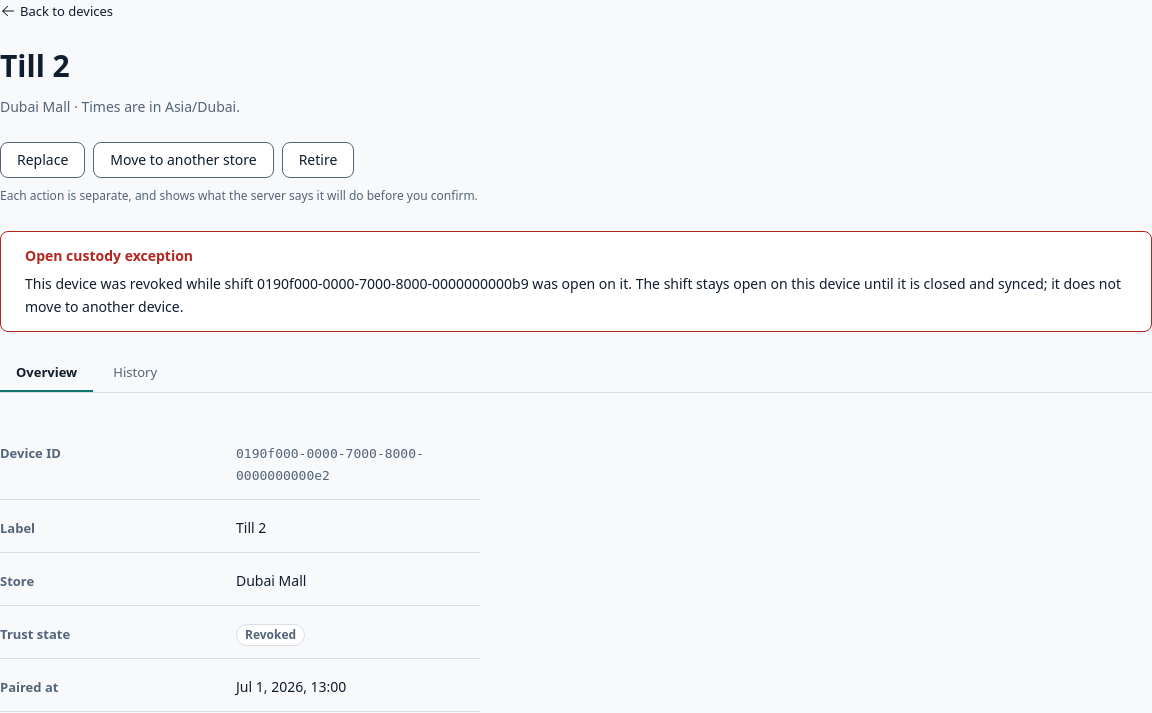
Test: Replace and Move (RT-372 part B) › a revoked device with a custody exception can be replaced: allowed, and the exception stays on the old device
expect the heading "Till 2" is shown: met, box x1=0 y1=45 x2=70 y2=86
Click the button "Replace" at (43, 160), box x1=0 y1=142 x2=85 y2=178
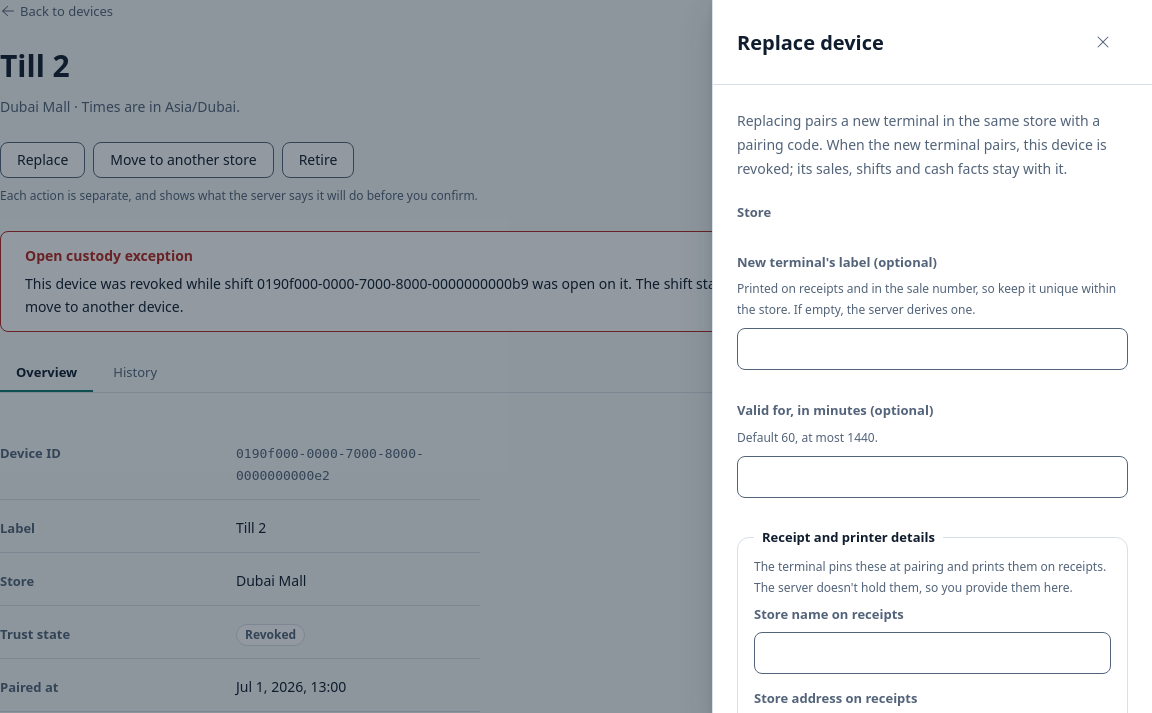
Type "Dubai Mall" into the field labelled "Store name on receipts" at (932, 653), box x1=754 y1=632 x2=1111 y2=674
(page scrolled)
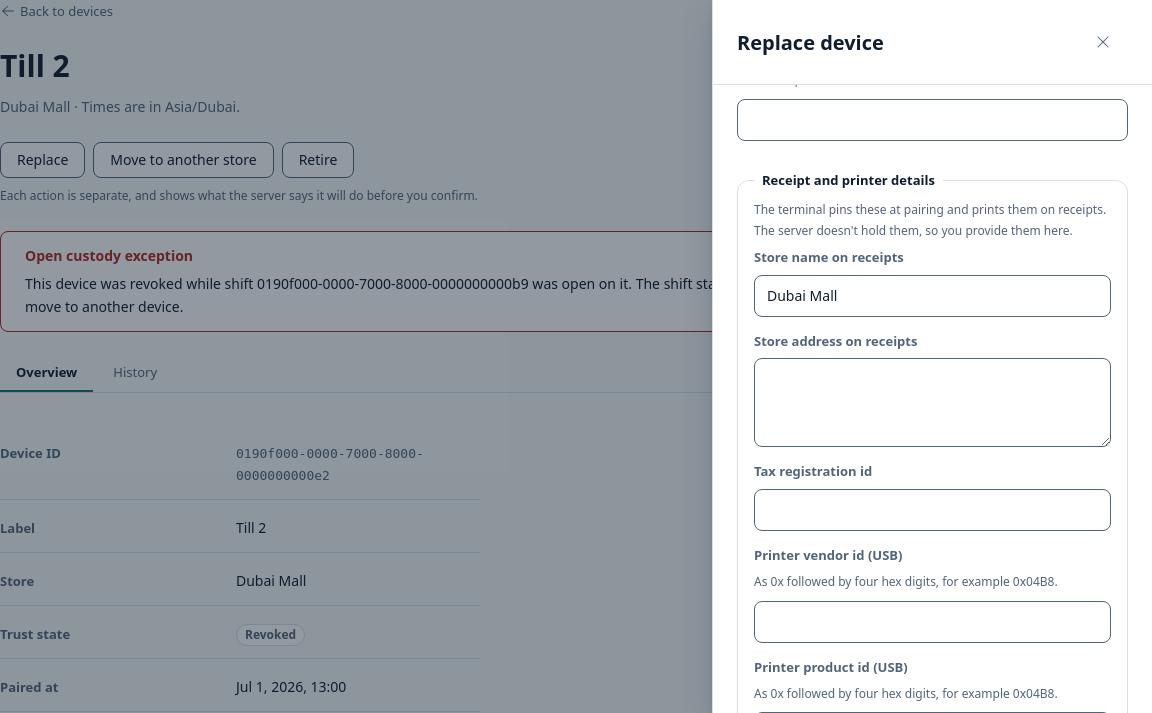
Type "Level 1, Downtown" into the text box labelled "Store address on receipts" at (932, 403), box x1=754 y1=358 x2=1111 y2=448
Type "TRN-100200300" into the field labelled "Tax registration id" at (932, 510), box x1=754 y1=489 x2=1111 y2=531
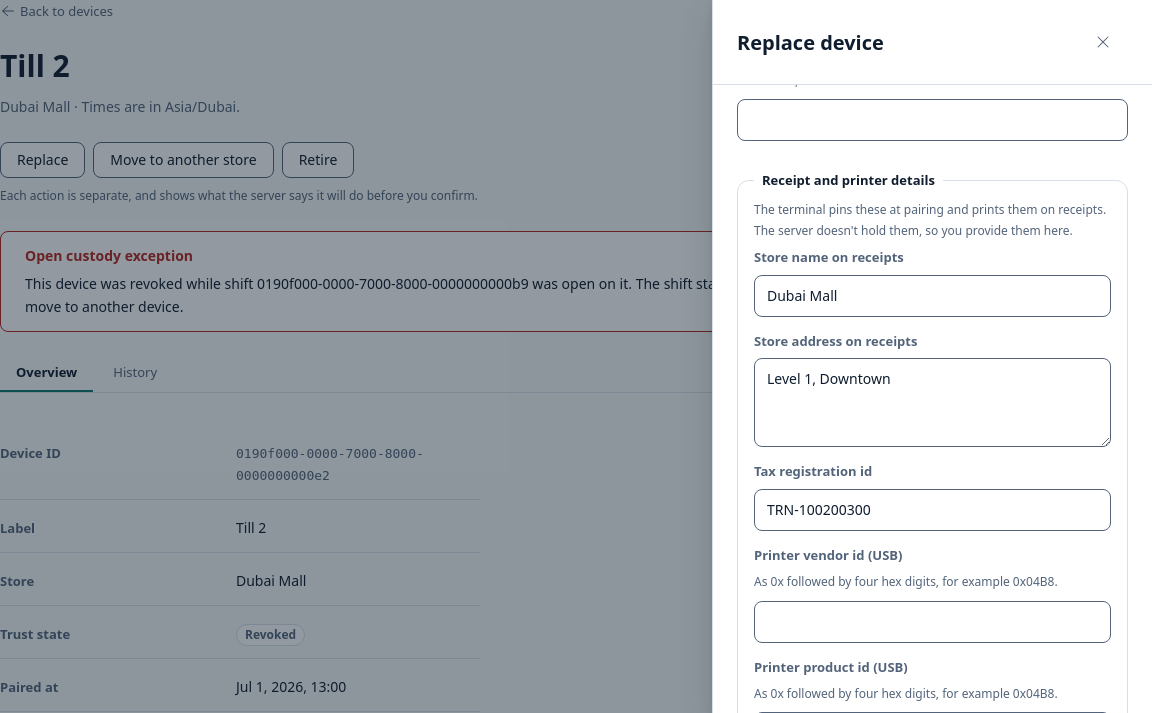
Type "0x04B8" into the field labelled "Printer vendor id (USB)" at (932, 622), box x1=754 y1=601 x2=1111 y2=642
(page scrolled)
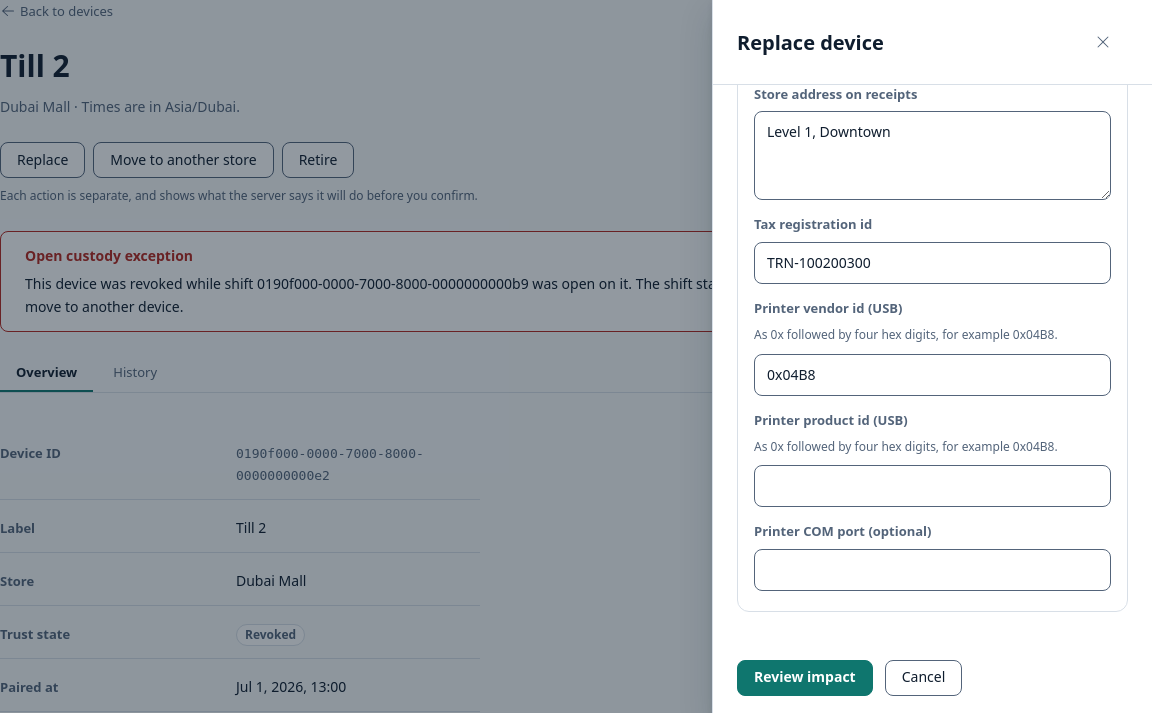
Type "0x0E15" into the field labelled "Printer product id (USB)" at (932, 486), box x1=754 y1=466 x2=1111 y2=507
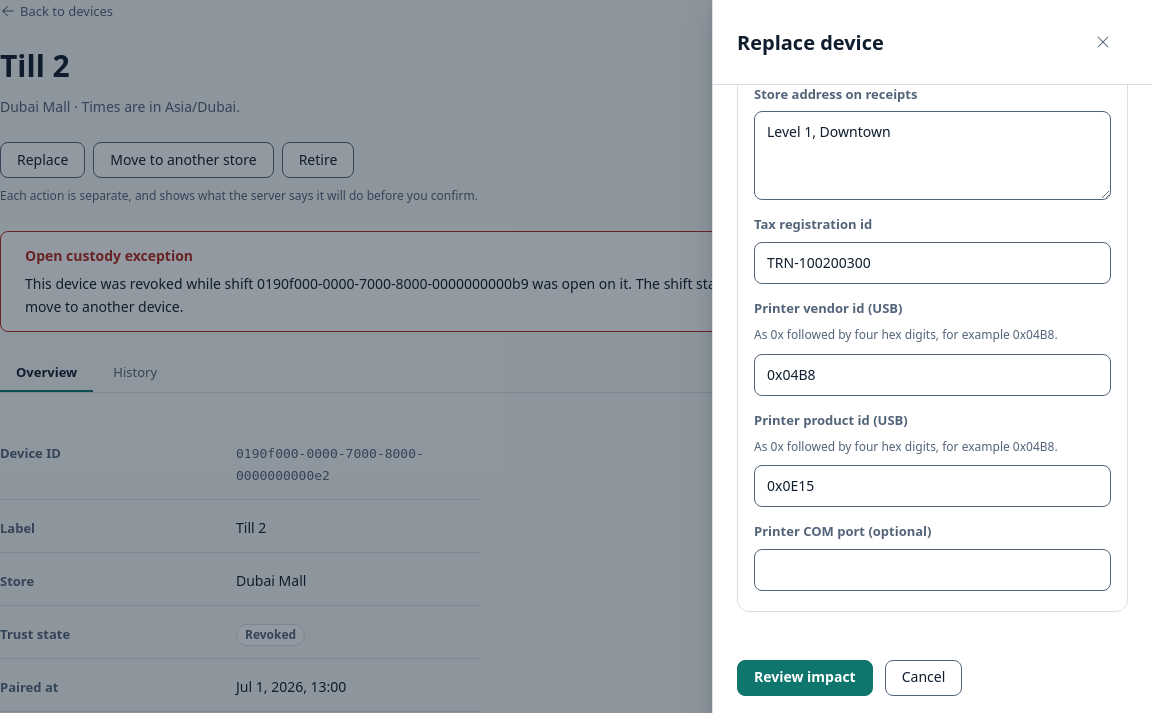
Click the button "Review impact" at (805, 678), box x1=737 y1=660 x2=873 y2=696
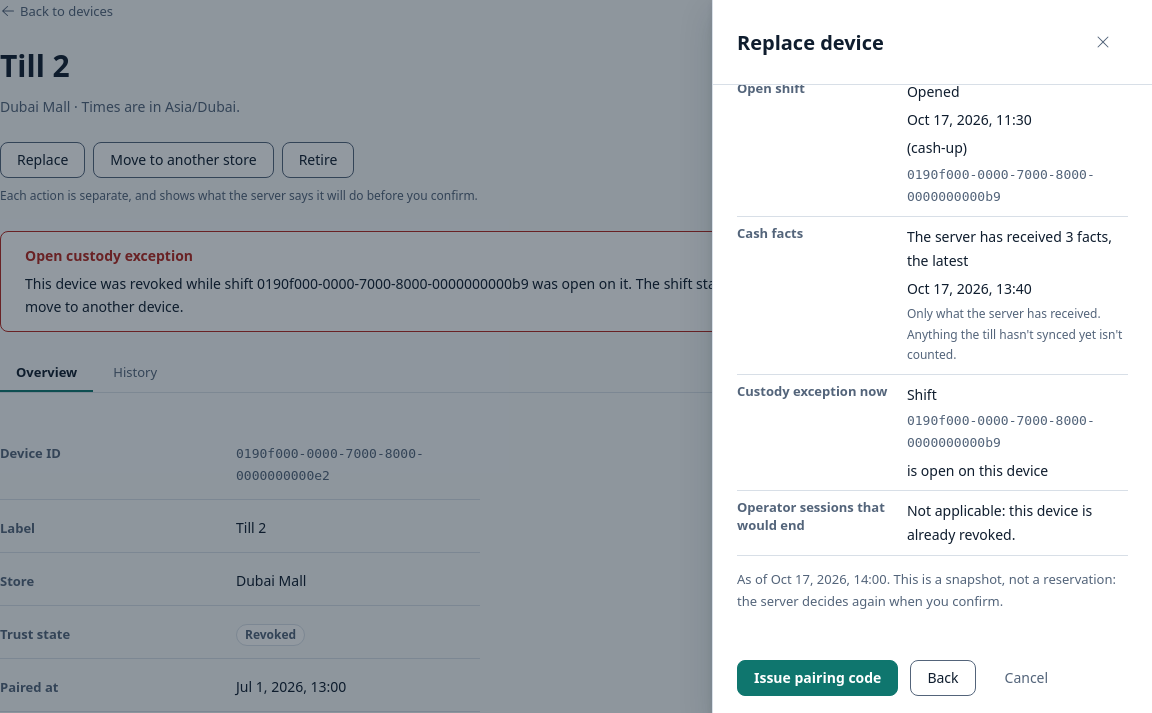
expect the button "Issue pairing code" is shown: met, box x1=737 y1=660 x2=898 y2=696
